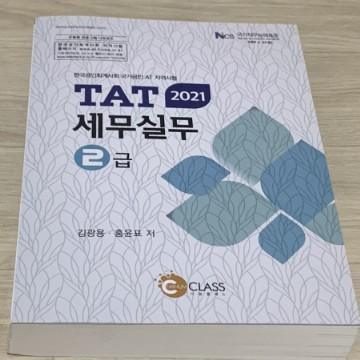book: (5, 15, 359, 359)
